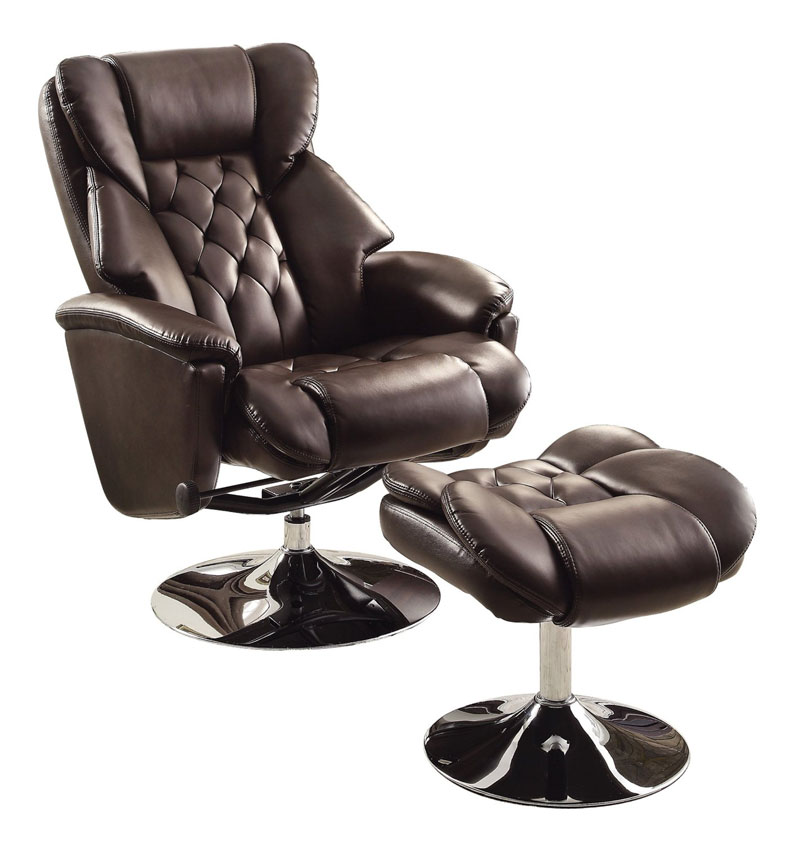chairs: (27, 41, 540, 656), (374, 430, 762, 812)
